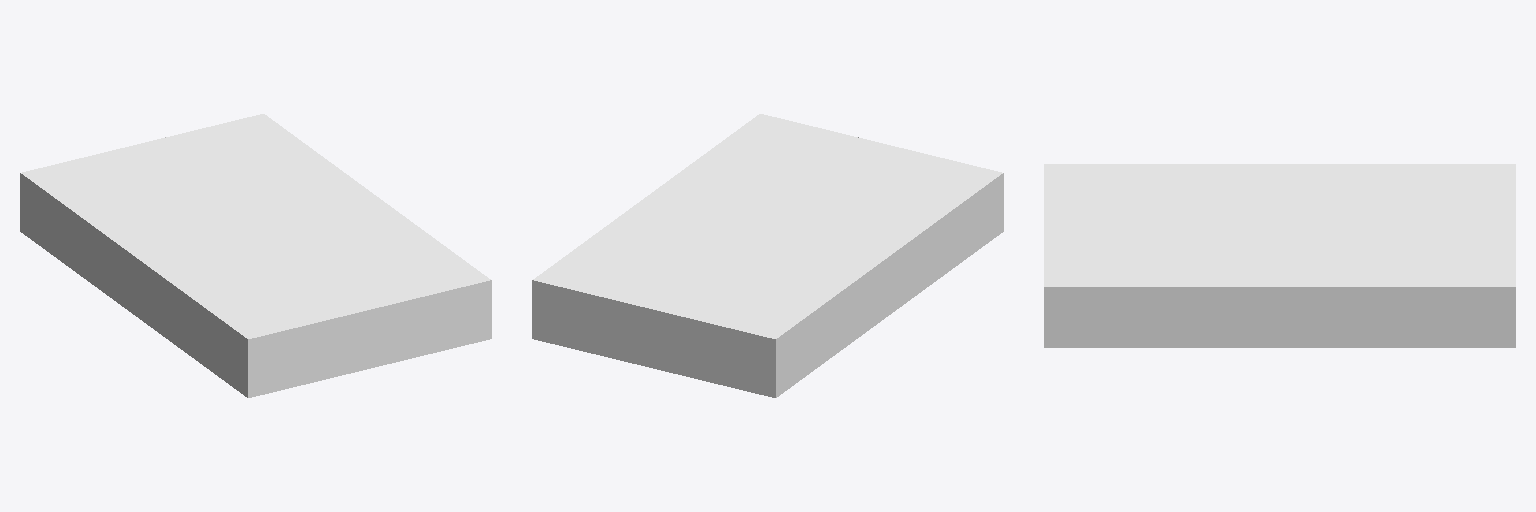
The robot description file, URDF, robot "paperbackURDF":
<?xml version="1.0" encoding="utf-8"?>
<!-- This URDF was automatically created by SolidWorks to URDF Exporter! Originally created by [author] ([email redacted]) 
     Commit Version: 1.6.0-4-g7f85cfe  Build Version: 1.6.7995.38578
     For more information, please see http://wiki.ros.org/sw_urdf_exporter -->
<robot
  name="paperbackURDF">
  <link
    name="base_link">
    <inertial>
      <origin
        xyz="-7.57249247507667E-18 -6.17351493276824E-18 0.0125"
        rpy="0 0 0" />
      <mass
        value="0.0755952272775" />
      <inertia
        ixx="0.000196862571035156"
        ixy="5.5582813347856E-20"
        ixz="-3.12230512928769E-22"
        iyy="7.74158123344331E-05"
        iyz="1.15717994553341E-20"
        izz="0.000266403880528183" />
    </inertial>
    <visual>
      <origin
        xyz="0 0 0"
        rpy="0 0 0" />
      <geometry>
        <mesh
          filename="package://paperbackURDF/meshes/base_link.STL" />
      </geometry>
      <material
        name="">
        <color
          rgba="1 1 1 1" />
      </material>
    </visual>
    <collision>
      <origin
        xyz="0 0 0"
        rpy="0 0 0" />
      <geometry>
        <mesh
          filename="package://paperbackURDF/meshes/base_link.STL" />
      </geometry>
    </collision>
  </link>
</robot>

--- Facts derived from the render (not from the file) ---
The picture shows the robot from 3 angles, left to right: view 1: azimuth 30°, elevation 25°; view 2: azimuth 150°, elevation 25°; view 3: azimuth 270°, elevation 25°; orthographic projection.
Model paperbackURDF with 1 links and 0 joints (none), rooted at base_link, posed every joint at zero.
Links seen in each view (by area): view 1: base_link; view 2: base_link; view 3: base_link.
Boxes of the visible links, x1,y1,x2,y2 form: base_link: [20, 114, 491, 397]; base_link: [532, 114, 1003, 397]; base_link: [1044, 164, 1515, 347].
Size in the robot's own frame: 0.108 by 0.175 by 0.025 metres.
Meshes: 1 distinct files referenced, 1 mesh visuals loaded (1 binary STL).